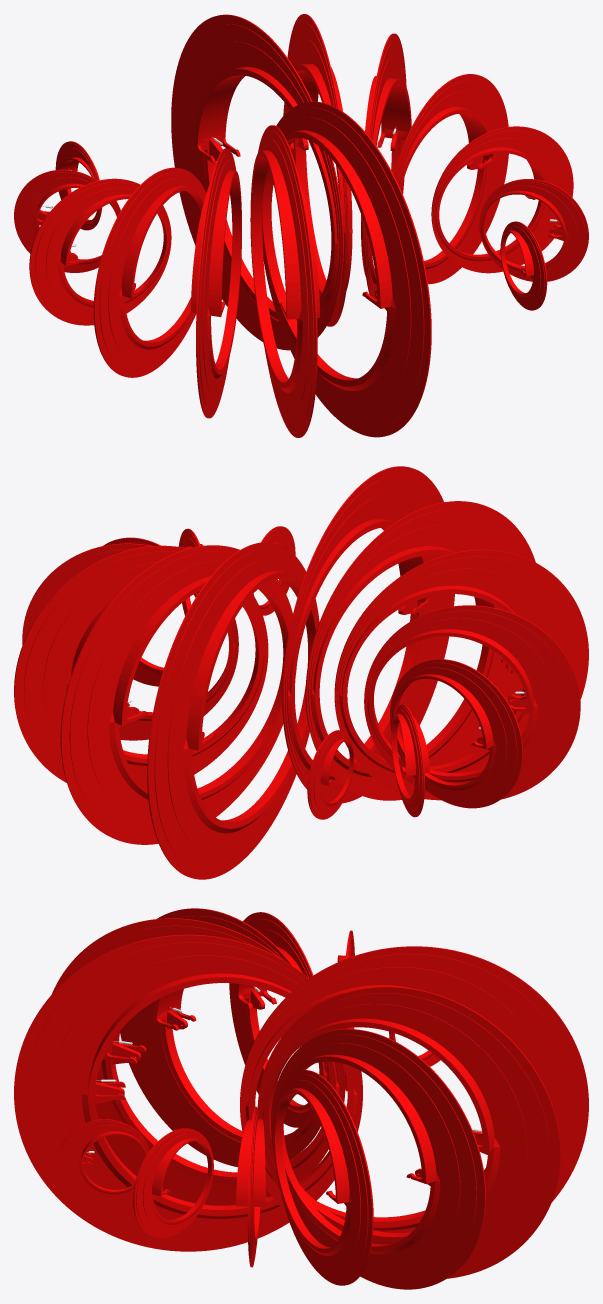
Rendered from OsakaSmooth.fbx.
3 renders of one model, top to bottom at view 1: azimuth 30°, elevation 25°; view 2: azimuth 150°, elevation 25°; view 3: azimuth 270°, elevation 25°, orthographic.
Visible parts, largest first — view 1: 07Anello, 14Anello, 06Anello, 04Anello, 05Anello, 11Anello, 03Anello, 10Anello, 13Anello, 12Anello, 09Anello, 02Anello (+2 smaller); view 2: 13Anello, 14Anello, 12Anello, 06Anello, 05Anello, 04Anello, 07Anello, 03Anello, 11Anello, 02Anello, 01Anello, 10Anello (+1 smaller); view 3: 07Anello, 13Anello, 12Anello, 14Anello, 05Anello, 06Anello, 11Anello, 04Anello, 09Anello, 08Anello, 10Anello.
Boxes of the visible parts, box(x1,y1,x2,y2) form: 07Anello: box(262, 101, 431, 437); 14Anello: box(171, 14, 343, 350); 06Anello: box(250, 125, 319, 437); 04Anello: box(93, 167, 206, 377); 05Anello: box(191, 148, 241, 418); 11Anello: box(394, 74, 508, 284); 03Anello: box(29, 178, 171, 325); 10Anello: box(431, 126, 573, 273); 13Anello: box(283, 14, 352, 326); 12Anello: box(361, 33, 411, 299); 09Anello: box(479, 179, 588, 281); 02Anello: box(14, 169, 120, 272); 13Anello: box(60, 545, 296, 844); 14Anello: box(147, 542, 319, 879); 12Anello: box(14, 545, 268, 786); 06Anello: box(305, 501, 535, 800); 05Anello: box(334, 549, 588, 800); 04Anello: box(364, 605, 580, 799); 07Anello: box(282, 466, 454, 803); 03Anello: box(390, 659, 522, 808); 11Anello: box(22, 543, 238, 740); 02Anello: box(391, 704, 429, 817); 01Anello: box(307, 730, 354, 819); 10Anello: box(103, 537, 199, 686); 07Anello: box(14, 934, 362, 1251); 13Anello: box(257, 986, 560, 1278); 12Anello: box(271, 1029, 485, 1289); 14Anello: box(240, 946, 588, 1233); 05Anello: box(120, 908, 330, 1167); 06Anello: box(51, 918, 345, 1205); 11Anello: box(273, 1070, 373, 1285); 04Anello: box(229, 912, 313, 1127); 09Anello: box(133, 1128, 213, 1238); 08Anello: box(58, 1119, 149, 1203); 10Anello: box(236, 1106, 266, 1267).
Bounding box in the file's own units: 4133 × 2497 × 4114.
